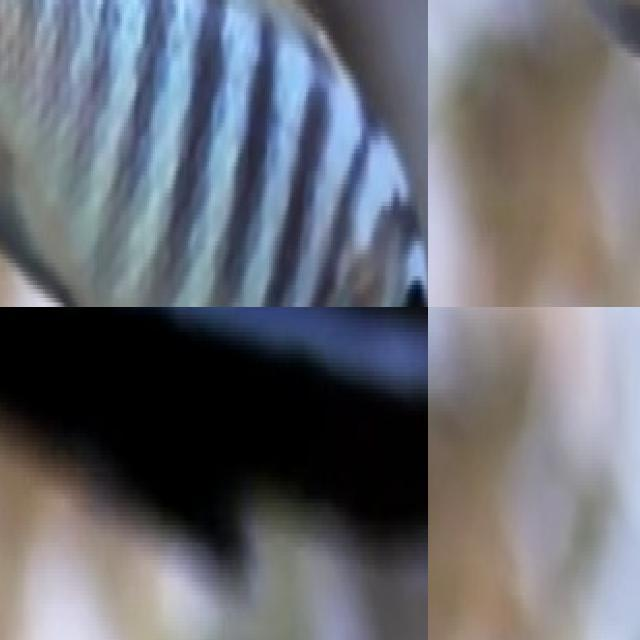fish: (0, 0, 428, 307), (0, 307, 428, 595), (448, 0, 640, 259)
